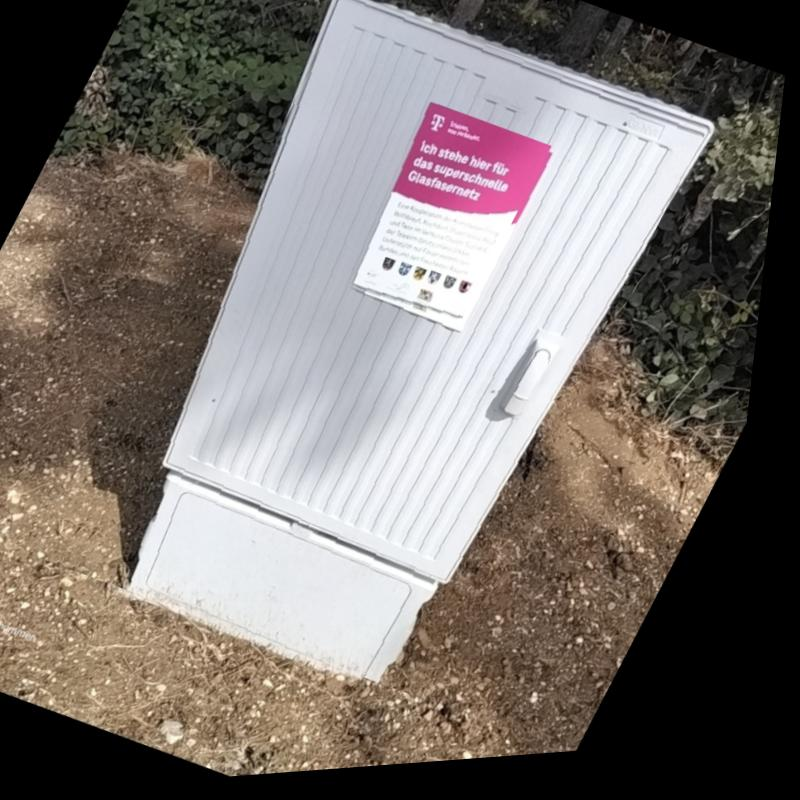NT-Gehause: (142, 5, 711, 689)
Steaker: (358, 114, 556, 330)
